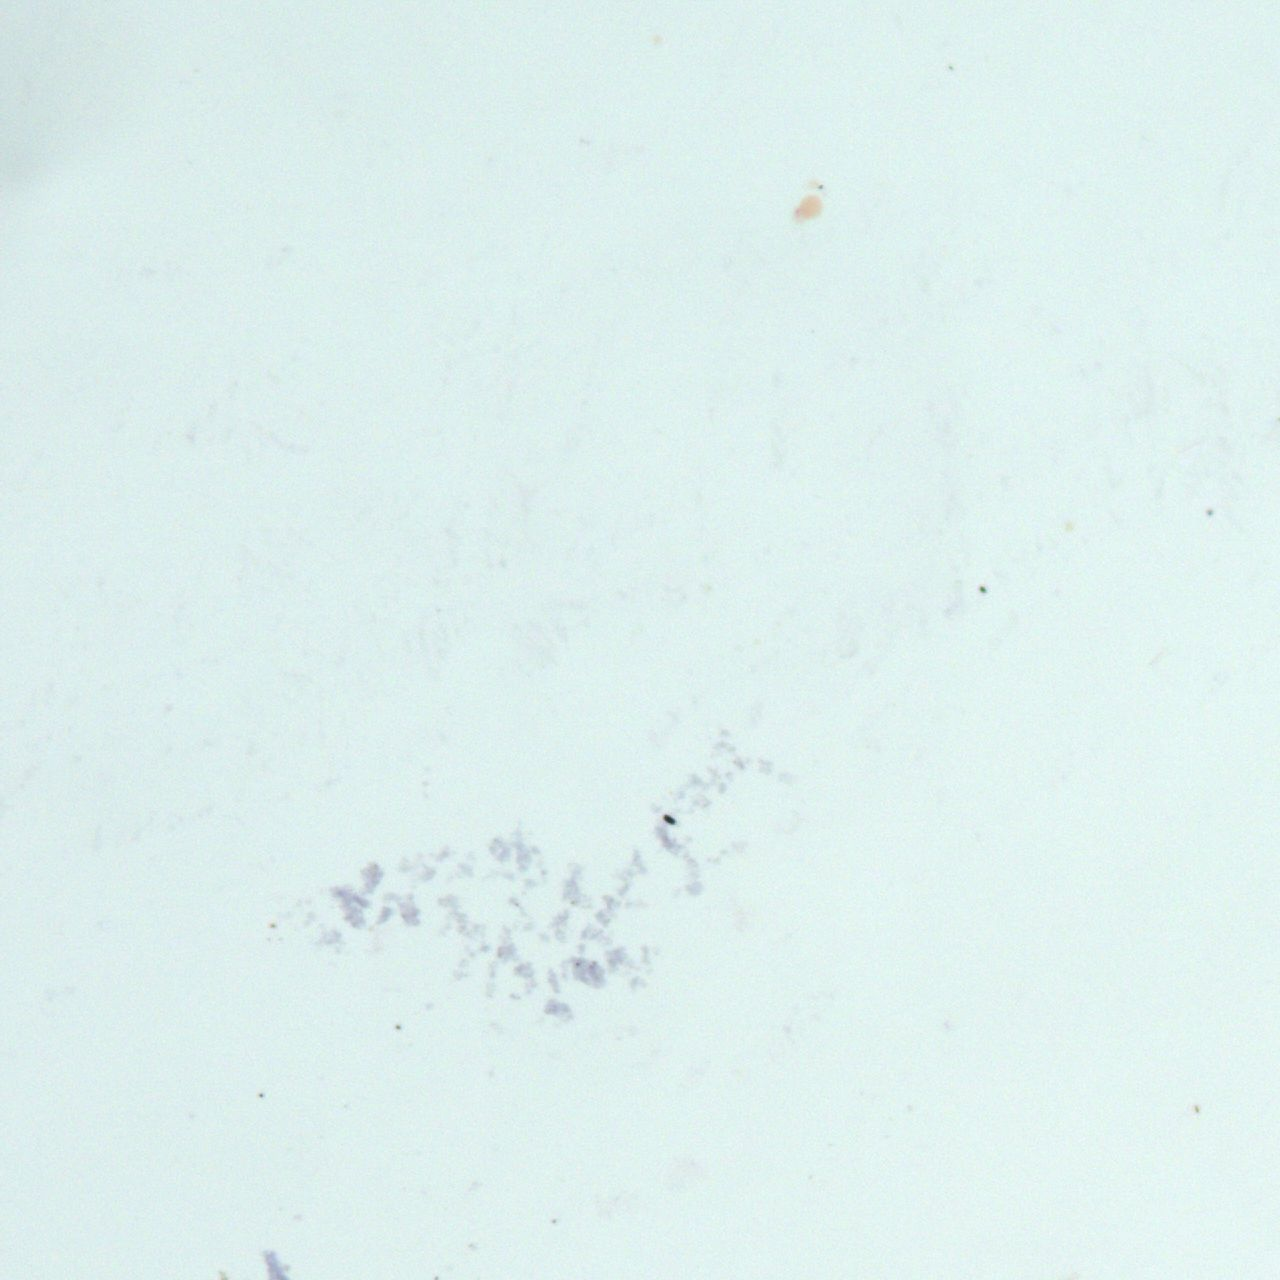dust: (794, 195, 822, 219), (663, 813, 678, 825), (270, 922, 275, 928), (395, 1024, 400, 1029), (259, 1092, 263, 1097)
